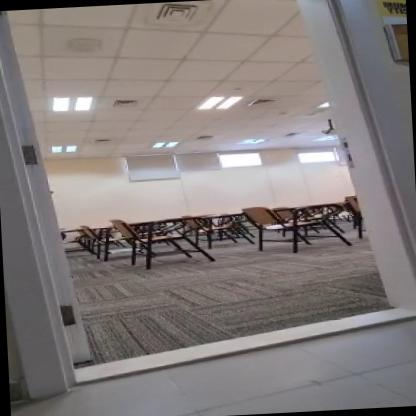open: (3, 0, 416, 400)
